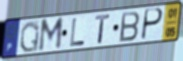B: (119, 10, 141, 44)
L: (69, 17, 86, 48)
M: (37, 15, 65, 53)
P: (140, 7, 164, 42)
Q: (19, 20, 41, 55)
T: (94, 13, 112, 45)
